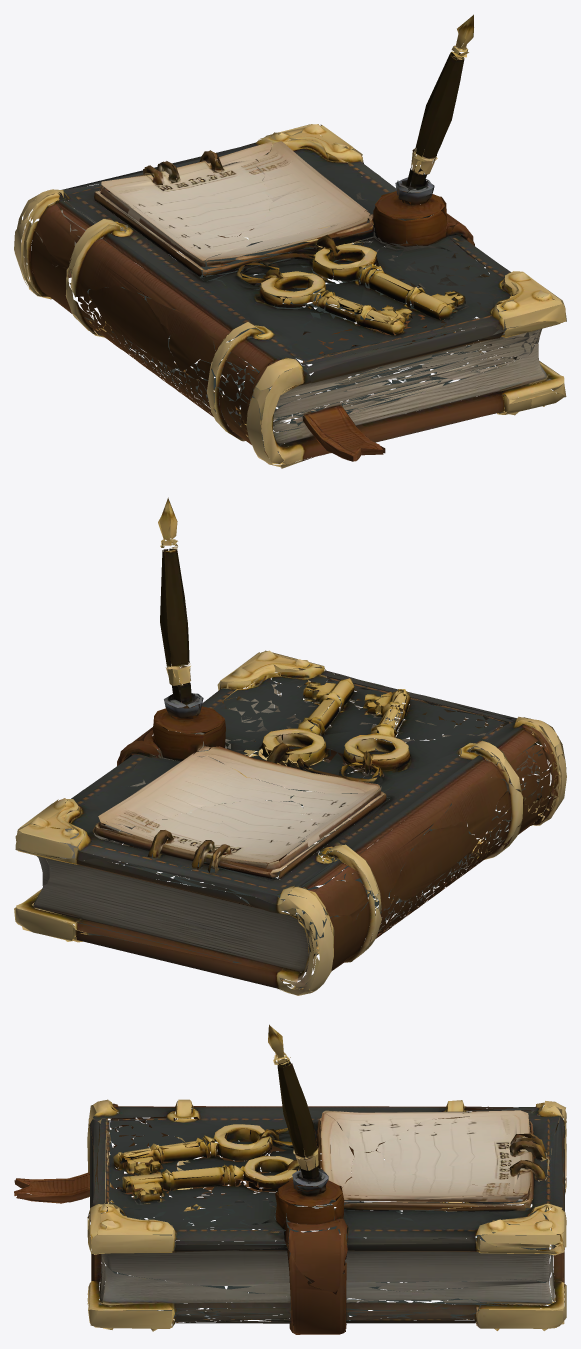
The model's file is prop-hotel-register-key.glb.
3 views of the same model, one above another, from view 1: azimuth 30°, elevation 25°; view 2: azimuth 150°, elevation 25°; view 3: azimuth 270°, elevation 25° (orthographic). The views are drawn at different scales.
Visible parts, largest first — view 1: prop-hotel-register-key; view 2: prop-hotel-register-key; view 3: prop-hotel-register-key.
Boxes of the visible parts, x1,y1,x2,y2 form: prop-hotel-register-key: [14, 14, 566, 468]; prop-hotel-register-key: [14, 497, 566, 995]; prop-hotel-register-key: [14, 1024, 566, 1334].
Size of the model in its own units: 0.1842 by 0.1799 by 0.2842.
Materials: 1 (1 with a texture image).
